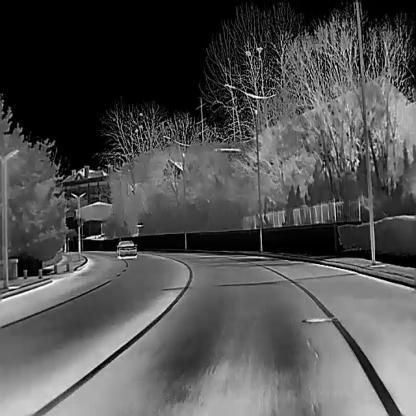car: (116, 239, 137, 257)
